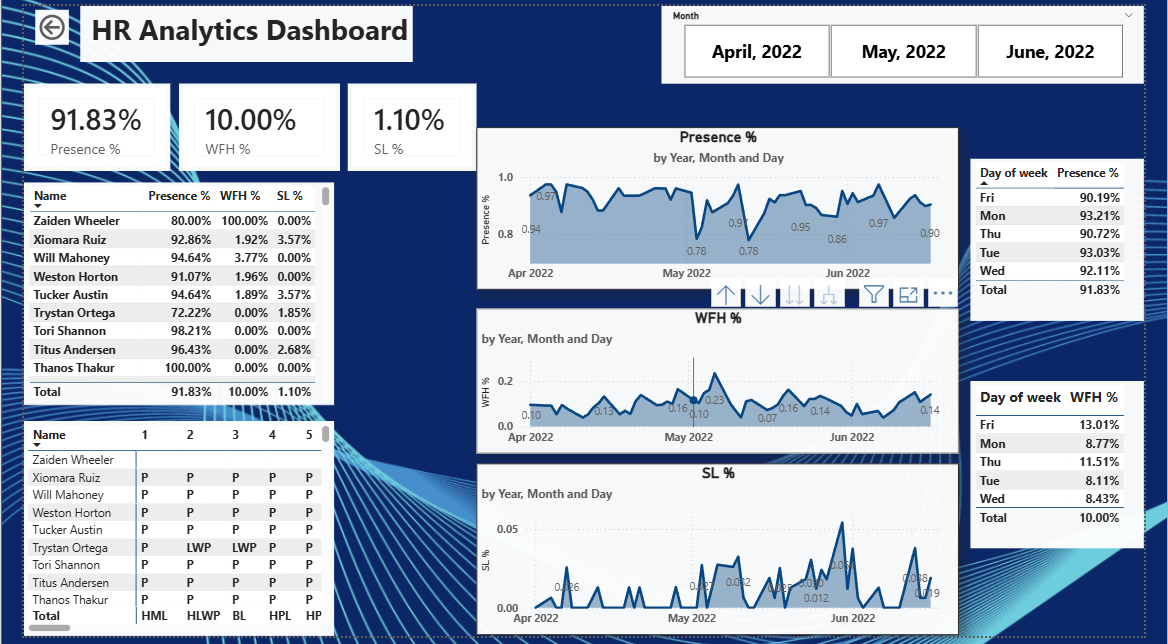

What the dashboard file says about the page in this screenshot:
{"tool":"powerbi","page":{"name":"Page 1","canvas":[1280,720],"ordinal":0},"visuals":[{"type":"cardVisual","fields":{"Data":["Templete.Presence %"]},"box":[0,88.6,167.1,100],"z":0},{"type":"slicer","fields":{"Values":["combined data.Month"]},"box":[728.6,0,551.4,88.6],"z":1000},{"type":"cardVisual","fields":{"Data":["Templete.WFH %","select"]},"box":[177.1,88.6,184.3,100],"z":2000},{"type":"cardVisual","fields":{"Data":["Templete.SL %","select"]},"box":[370,88.6,147.1,100],"z":3000},{"type":"tableEx","fields":{"Values":["combined data.Name","Templete.Presence %","Templete.WFH %","Templete.SL %"]},"box":[0,201.4,354.3,254.3],"z":4000},{"type":"actionButton","box":[12.9,4.3,38.6,40],"z":5000},{"type":"pivotTable","fields":{"Rows":["combined data.Name"],"Values":["Min(combined data.Value)"],"Columns":["combined data.Date.Variation.Date Hierarchy.Year","combined data.Date.Variation.Date Hierarchy.Month","combined data.Date.Variation.Date Hierarchy.Day"]},"box":[0,474.3,354.3,245.7],"z":6000},{"type":"stackedAreaChart","fields":{"Y":["Templete.Presence %"],"Category":["combined data.Date.Variation.Date Hierarchy.Year","combined data.Date.Variation.Date Hierarchy.Month","combined data.Date.Variation.Date Hierarchy.Day"]},"box":[517.1,138.6,551.4,185.7],"z":7000},{"type":"stackedAreaChart","fields":{"Category":["combined data.Date.Variation.Date Hierarchy.Year","combined data.Date.Variation.Date Hierarchy.Month","combined data.Date.Variation.Date Hierarchy.Day"],"Y":["Templete.WFH %"]},"box":[517.1,345.7,551.4,165.7],"z":8000},{"type":"stackedAreaChart","fields":{"Category":["combined data.Date.Variation.Date Hierarchy.Year","combined data.Date.Variation.Date Hierarchy.Month","combined data.Date.Variation.Date Hierarchy.Day"],"Y":["Templete.SL %"]},"box":[517.1,522.9,551.4,195.7],"z":9000},{"type":"tableEx","fields":{"Values":["combined data.Day of week","Templete.Presence %"]},"box":[1081.4,174.3,198.6,185.7],"z":10000},{"type":"tableEx","fields":{"Values":["combined data.Day of week","Templete.WFH %"]},"box":[1081.4,428.6,198.6,191.4],"z":11000},{"type":"textbox","box":[64.3,0,380,64.3],"z":13000}]}

Visuals, with their boxes in screenshot pixels (x1, y1, x2, y2), scaled from the page's 1280x720 canvas onto the 1168x644 screenshot:
cardVisual - Templete.Presence %: [0, 79, 152, 169]
slicer - combined data.Month: [665, 0, 1167, 79]
cardVisual - Templete.WFH % x select: [162, 79, 330, 169]
cardVisual - Templete.SL % x select: [338, 79, 472, 169]
tableEx - combined data.Name x Templete.Presence %: [0, 180, 323, 408]
actionButton: [12, 4, 47, 40]
pivotTable - combined data.Name x Min(combined data.Value): [0, 424, 323, 643]
stackedAreaChart - Templete.Presence % x combined data.Date.Variation.Date Hierarchy.Year: [472, 124, 975, 290]
stackedAreaChart - combined data.Date.Variation.Date Hierarchy.Year x combined data.Date.Variation.Date Hierarchy.Month: [472, 309, 975, 457]
stackedAreaChart - combined data.Date.Variation.Date Hierarchy.Year x combined data.Date.Variation.Date Hierarchy.Month: [472, 468, 975, 643]
tableEx - combined data.Day of week x Templete.Presence %: [987, 156, 1167, 322]
tableEx - combined data.Day of week x Templete.WFH %: [987, 383, 1167, 555]
textbox: [59, 0, 405, 58]
